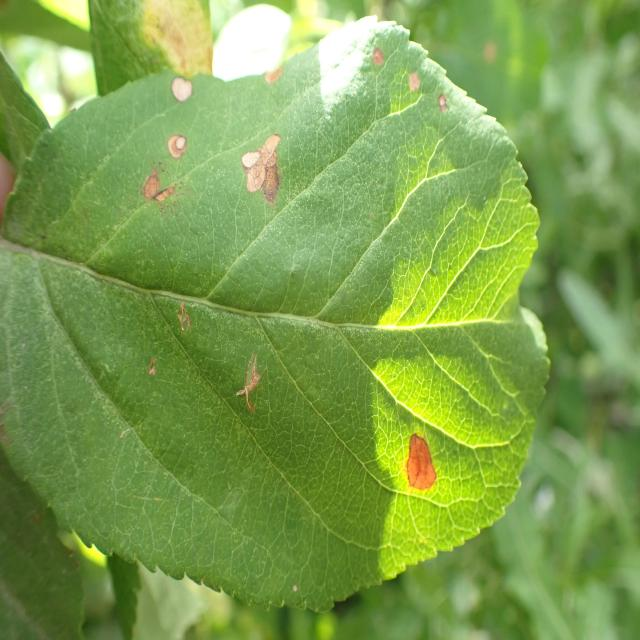Black Rot: (379, 428, 448, 513), (238, 132, 288, 210), (226, 342, 270, 418), (136, 166, 186, 212), (165, 62, 203, 116), (168, 286, 200, 346), (350, 37, 392, 82), (163, 124, 196, 168), (400, 66, 429, 106), (255, 65, 291, 95), (431, 87, 456, 123), (137, 350, 158, 388)
